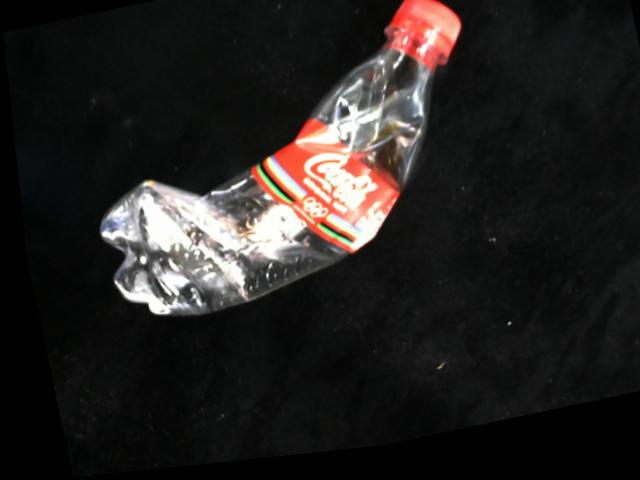bottle: (96, 3, 461, 319)
